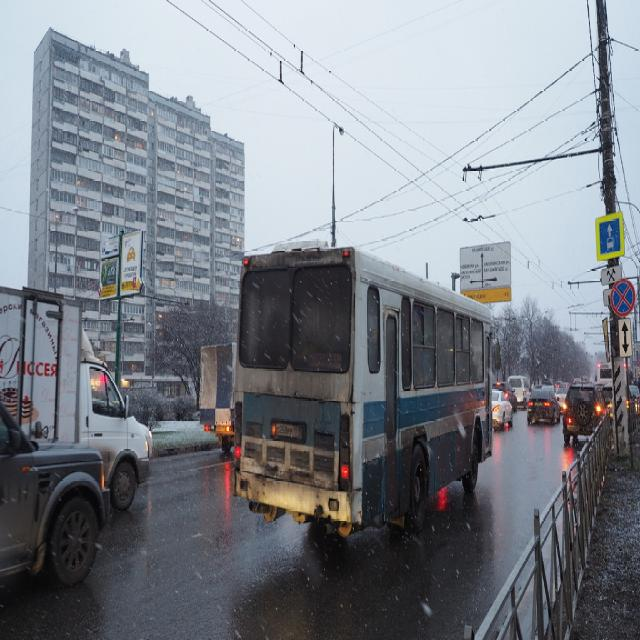car: (525, 382, 561, 422)
